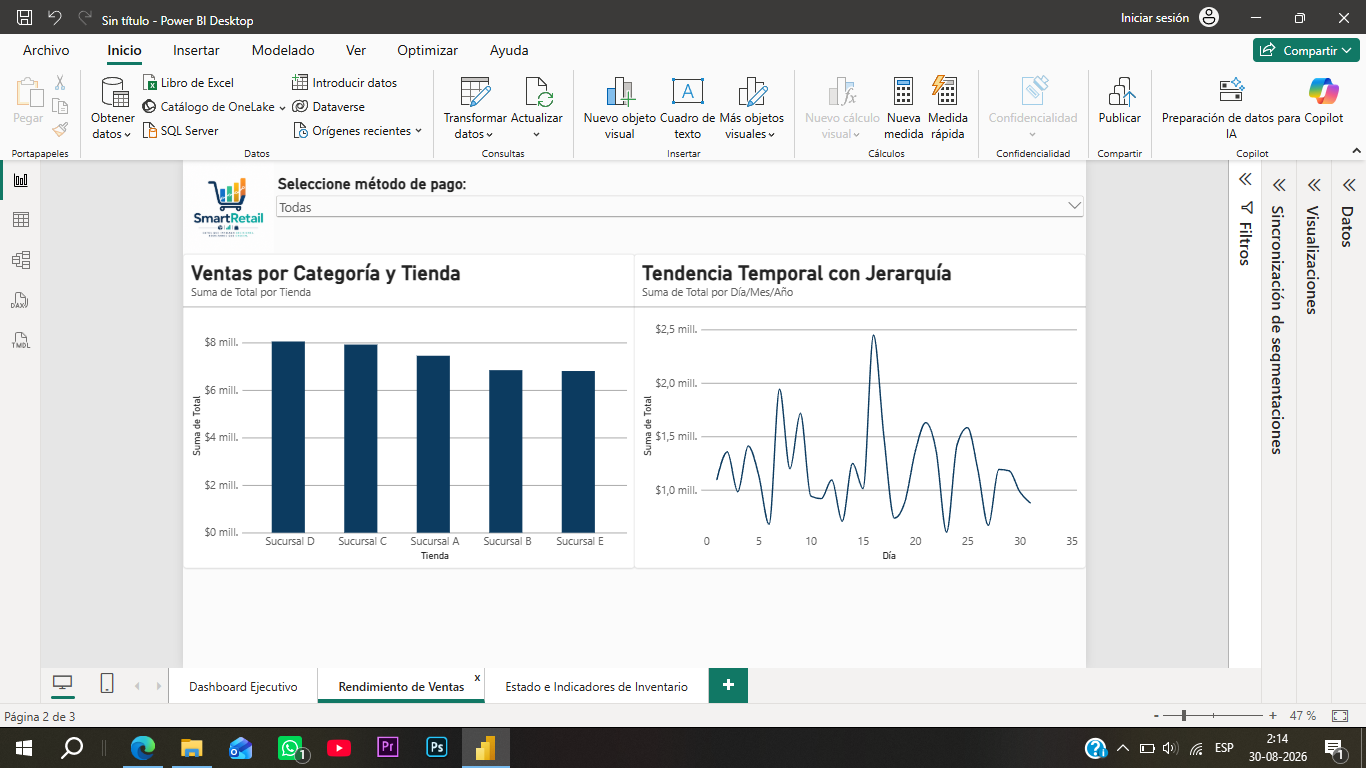

This screenshot's page, from the dashboard's own definition file:
{"tool":"powerbi","page":{"name":"Rendimiento de Ventas","canvas":[1920,1080],"ordinal":1},"visuals":[{"type":"clusteredColumnChart","title":"Ventas por Categoría y Tienda","fields":{"Category":["ventas.Tienda"],"Y":["Sum(ventas.Total)"]},"box":[0,199.8,960.9,667.6],"z":0},{"type":"lineChart","title":"Tendencia Temporal con Jerarquía","fields":{"Category":["Calendario.jerarquia_fechas.Año","Calendario.jerarquia_fechas.Mes","Calendario.jerarquia_fechas.Día"],"Y":["Sum(ventas.Total)"]},"box":[958.8,199.8,960.9,667.6],"z":1},{"type":"slicer","fields":{"Values":["ventas.Metodo_Pago"]},"box":[193.5,31.9,1726.3,136.1],"z":2},{"type":"image","box":[0,0,193.5,199.8],"z":3}]}

Visuals, with their boxes on the page's 1920x1080 design canvas (x1, y1, x2, y2). These are canvas units, not pixel positions in the 1366x768 screenshot, which may show the page scaled, cropped or inside an application window:
"Ventas por Categoría y Tienda" clusteredColumnChart: l=0, t=200, r=961, b=867
"Tendencia Temporal con Jerarquía" lineChart: l=959, t=200, r=1920, b=867
slicer - ventas.Metodo_Pago: l=194, t=32, r=1920, b=168
image: l=0, t=0, r=194, b=200
